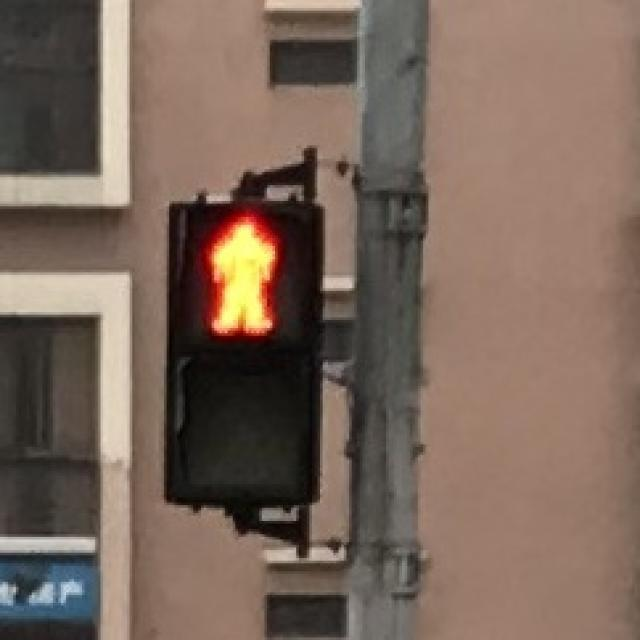red-crossing: (169, 196, 312, 344)
